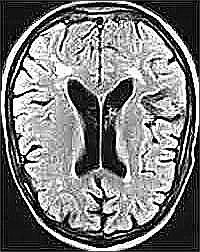Normal_Brain: (2, 2, 198, 250)
